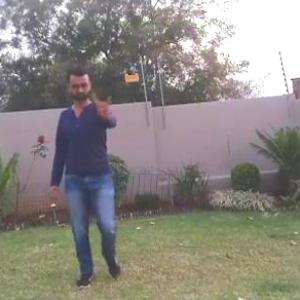takeoff-hand: (90, 88, 118, 120)
